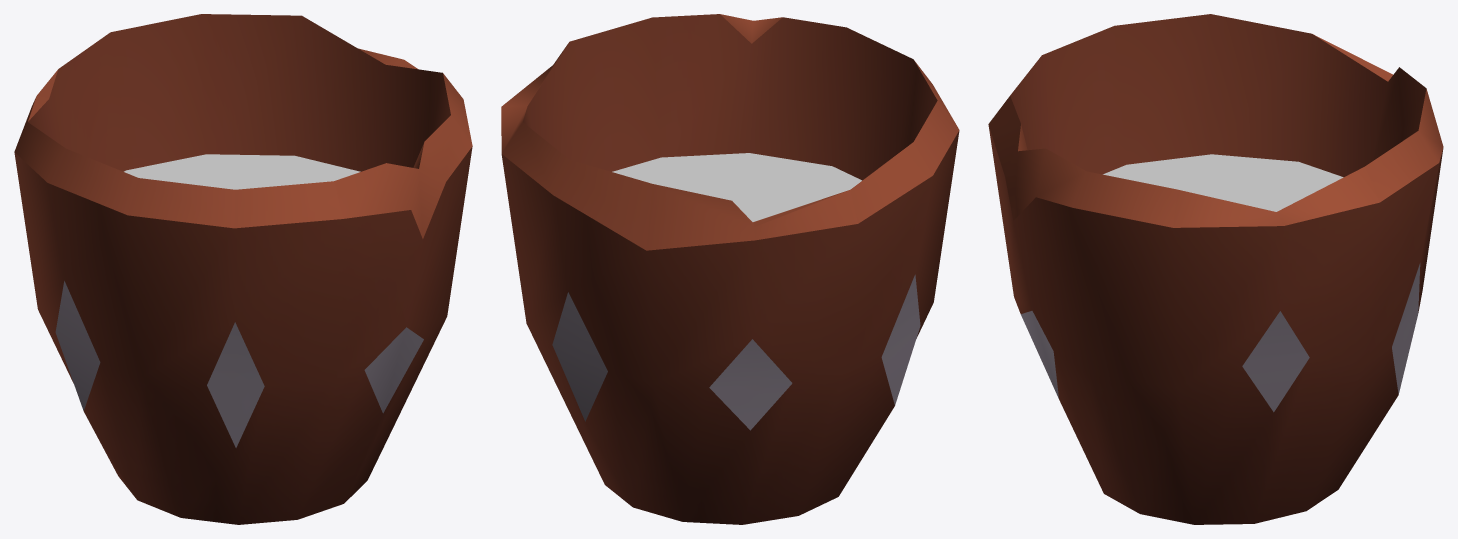
Rendered from Clay_Dish_2E.fbx.
3 views of the same model, side by side, from view 1: azimuth 30°, elevation 25°; view 2: azimuth 150°, elevation 25°; view 3: azimuth 270°, elevation 25° (orthographic).
Parts seen in each view (by area): view 1: Clay_Dish_2E; view 2: Clay_Dish_2E; view 3: Clay_Dish_2E.
Part boxes in pixels (bbox=[...]): Clay_Dish_2E: bbox=[14, 14, 472, 524]; Clay_Dish_2E: bbox=[501, 14, 959, 524]; Clay_Dish_2E: bbox=[988, 14, 1443, 524].
Bounding box in the file's own units: 0.5771 × 0.5143 × 0.5728.
